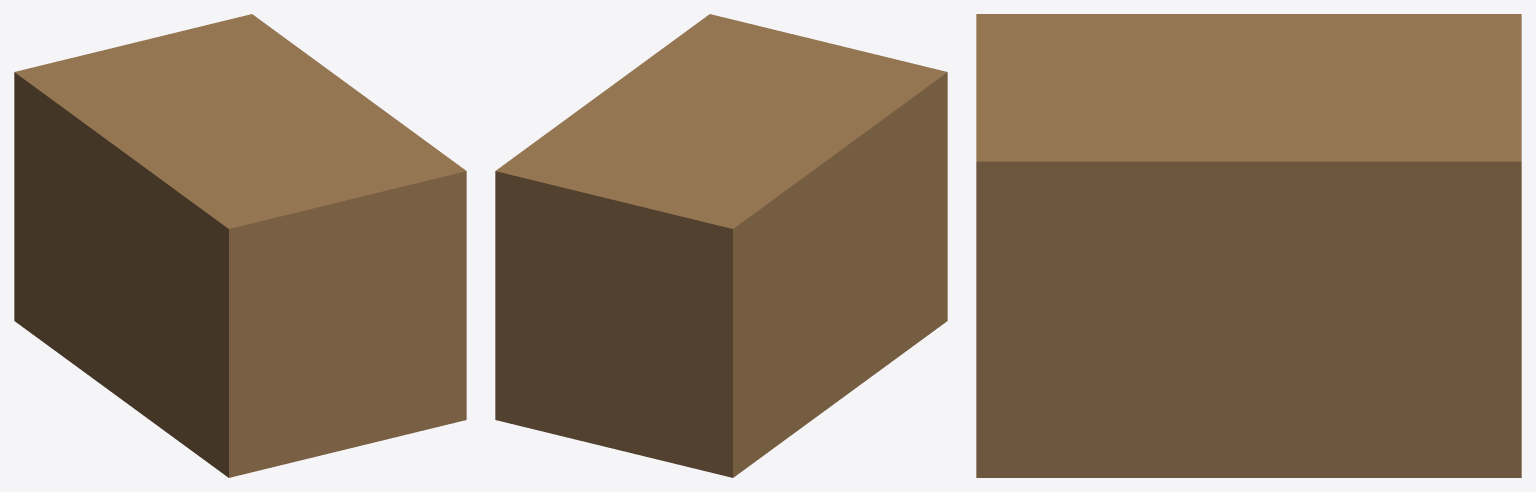
File: Platform_CenterMiddle.glb
The picture shows the model from 3 angles, left to right: view 1: azimuth 30°, elevation 25°; view 2: azimuth 150°, elevation 25°; view 3: azimuth 270°, elevation 25°; orthographic projection. The views are drawn at different scales.
Parts seen in each view (by area): view 1: Platform_CenterMiddle; view 2: Platform_CenterMiddle; view 3: Platform_CenterMiddle.
Boxes of the visible parts, <box> form: Platform_CenterMiddle: <box>14,14,466,477</box>; Platform_CenterMiddle: <box>495,14,947,477</box>; Platform_CenterMiddle: <box>976,14,1521,477</box>.
Size of the model in its own units: 2 by 2 by 3.13.
